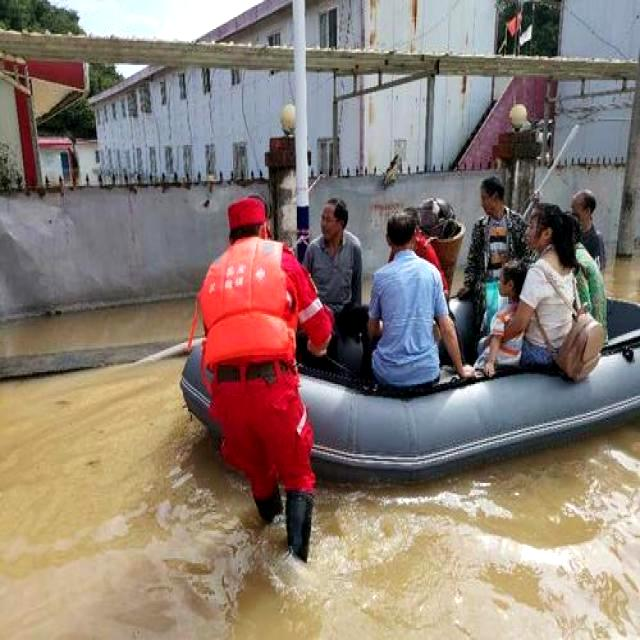civilian: (373, 212, 457, 398), (519, 196, 585, 376), (453, 178, 512, 374), (304, 193, 372, 358), (556, 212, 606, 354), (479, 264, 526, 384), (564, 189, 606, 279)
rescuer: (196, 189, 319, 570)
